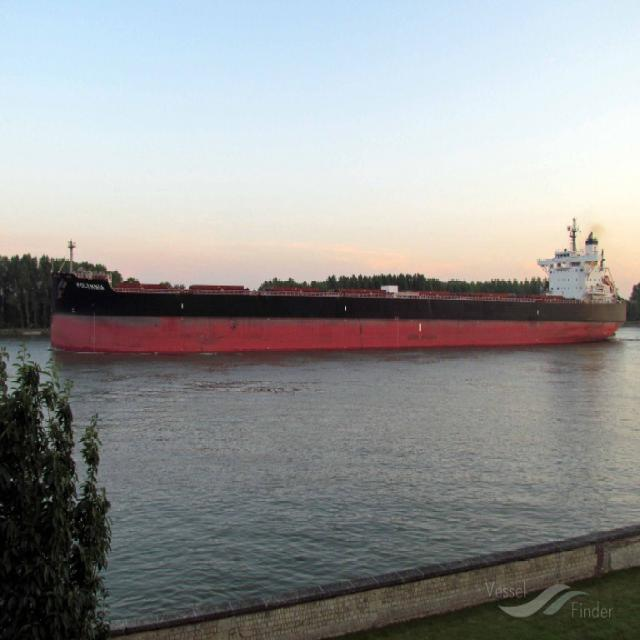OCR: (76, 276, 106, 294)
